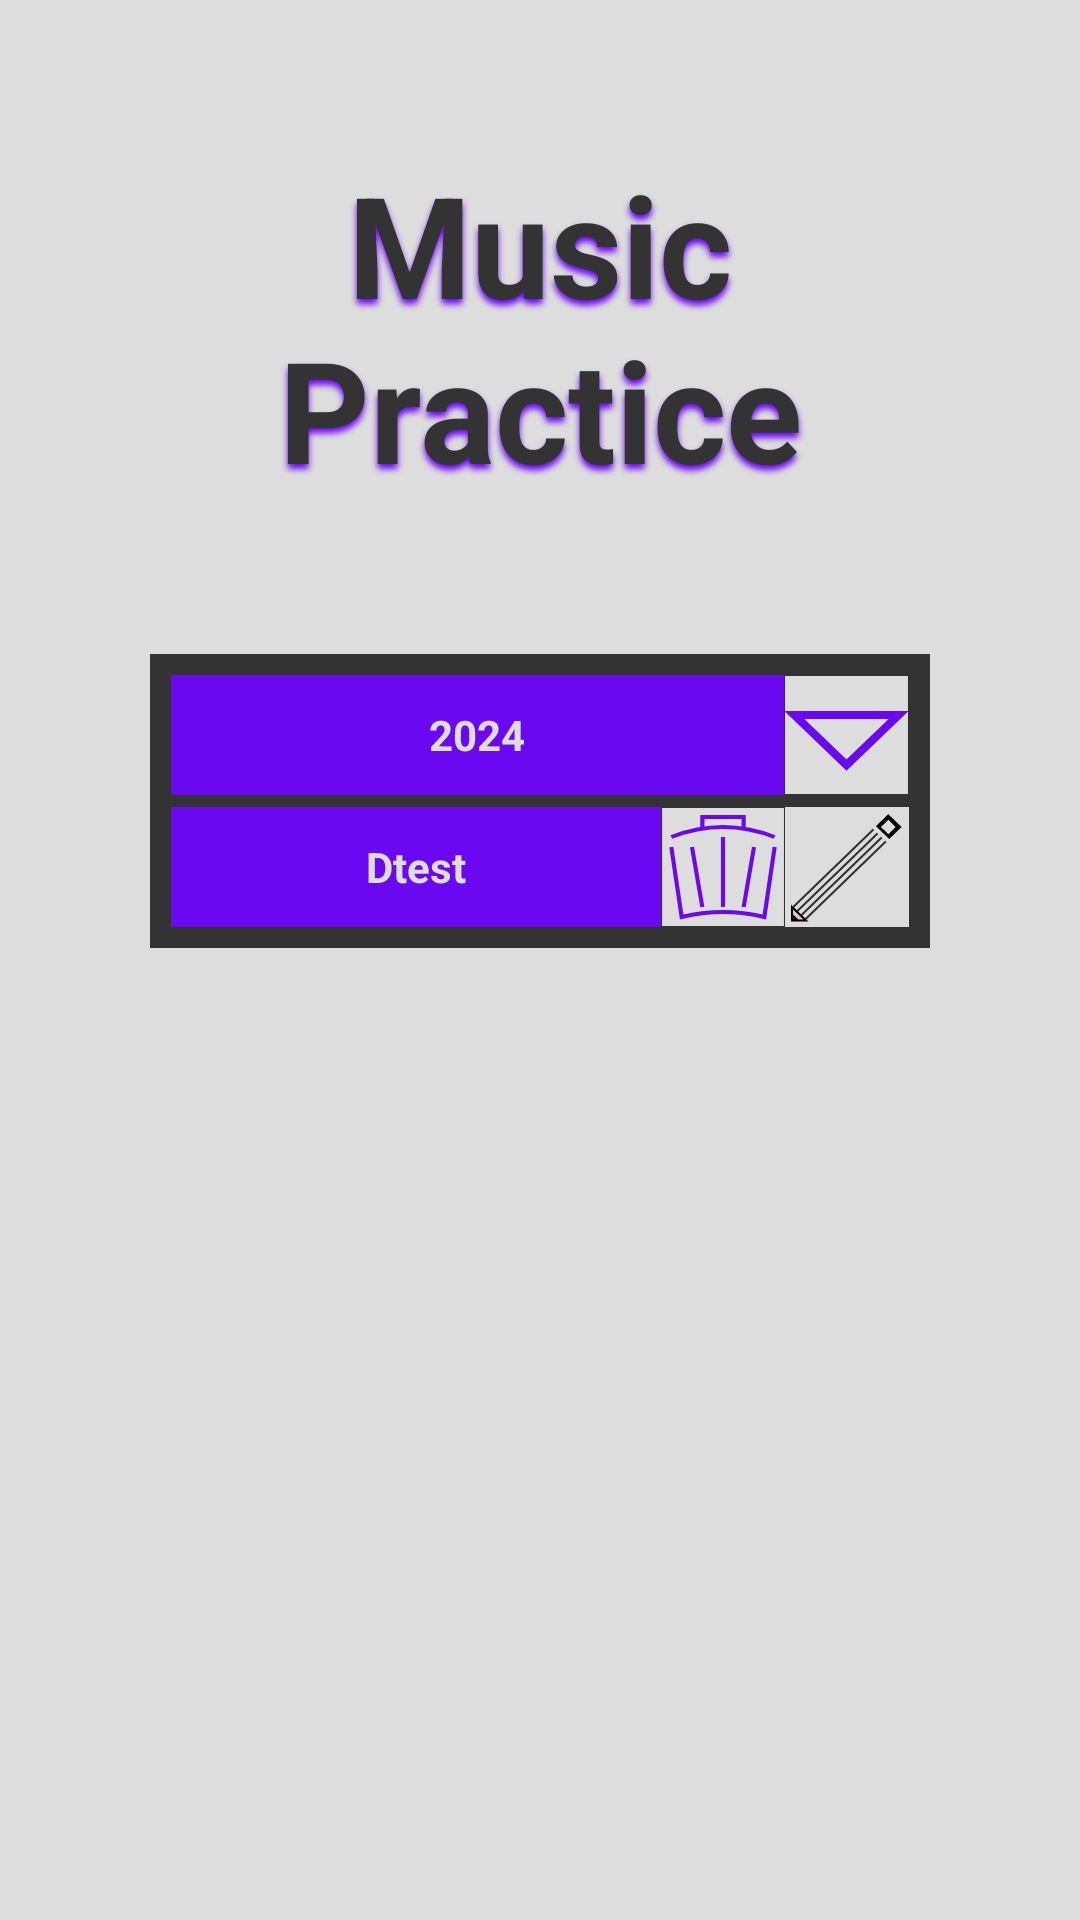

Icon click points for this 1080px×1920px phone screenshot, format point (x, y):
arrow: point (846, 735)
bin: point (723, 867)
pencil: point (847, 867)
